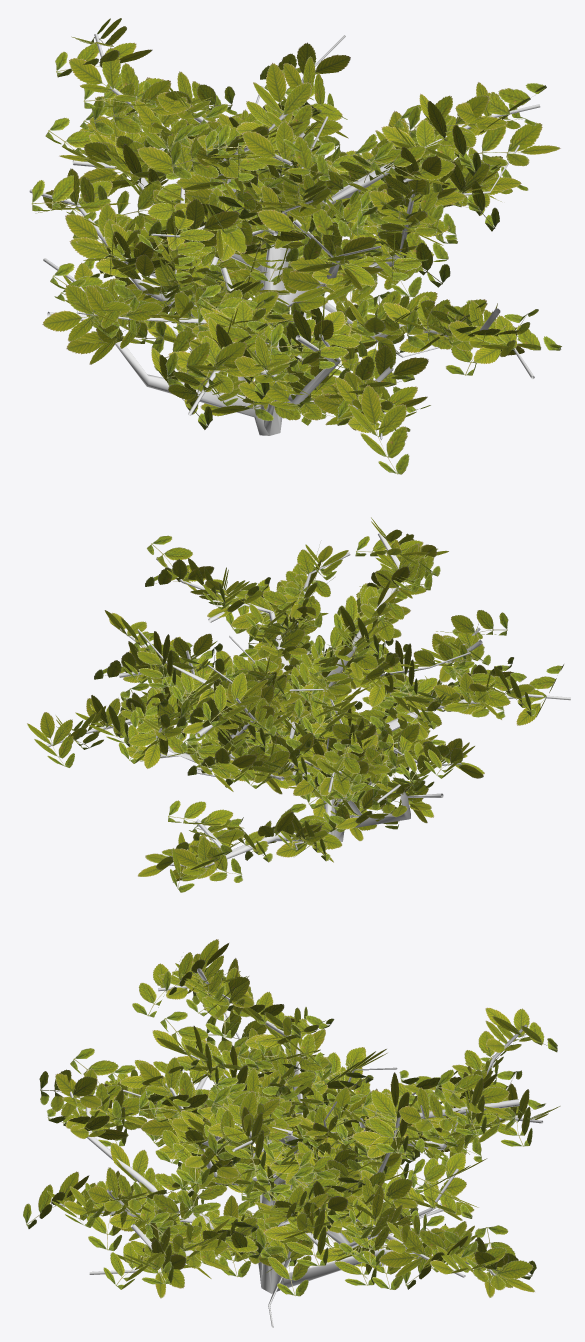
The model's file is Bush_low.fbx.
3 renders of one model, top to bottom at view 1: azimuth 30°, elevation 25°; view 2: azimuth 150°, elevation 25°; view 3: azimuth 270°, elevation 25°, orthographic. The views are drawn at different scales.
Visible parts, largest first — view 1: tree.003, tree.003|green_leaves_PNG3661|Dupli|109, tree.003|green_leaves_PNG3661|Dupli|301, tree.003|green_leaves_PNG3661|Dupli|4, tree.003|green_leaves_PNG3661|Dupli|307, tree.003|green_leaves_PNG3661|Dupli|18, tree.003|green_leaves_PNG3661|Dupli|177, tree.003|green_leaves_PNG3661|Dupli|179, tree.003|green_leaves_PNG3661|Dupli|217, tree.003|green_leaves_PNG3661|Dupli|274, tree.003|green_leaves_PNG3661|Dupli|358, tree.003|green_leaves_PNG3661|Dupli|82 (+85 smaller); view 2: tree.003, tree.003|green_leaves_PNG3661|Dupli|178, tree.003|green_leaves_PNG3661|Dupli|152, tree.003|green_leaves_PNG3661|Dupli|56, tree.003|green_leaves_PNG3661|Dupli|354, tree.003|green_leaves_PNG3661|Dupli|238, tree.003|green_leaves_PNG3661|Dupli|24, tree.003|green_leaves_PNG3661|Dupli|167, tree.003|green_leaves_PNG3661|Dupli|337, tree.003|green_leaves_PNG3661|Dupli|312, tree.003|green_leaves_PNG3661|Dupli|151, tree.003|green_leaves_PNG3661|Dupli|266 (+54 smaller); view 3: tree.003, tree.003|green_leaves_PNG3661|Dupli|236, tree.003|green_leaves_PNG3661|Dupli|70, tree.003|green_leaves_PNG3661|Dupli|157, tree.003|green_leaves_PNG3661|Dupli|374, tree.003|green_leaves_PNG3661|Dupli|240, tree.003|green_leaves_PNG3661|Dupli|121, tree.003|green_leaves_PNG3661|Dupli|397, tree.003|green_leaves_PNG3661|Dupli|167, tree.003|green_leaves_PNG3661|Dupli|103, tree.003|green_leaves_PNG3661|Dupli|319, tree.003|green_leaves_PNG3661|Dupli|272 (+70 smaller).
Part boxes in pixels (left/top/right/bottom): tree.003: left=29, top=33, right=540, bottom=440; tree.003|green_leaves_PNG3661|Dupli|109: left=348, top=384, right=409, bottom=474; tree.003|green_leaves_PNG3661|Dupli|301: left=253, top=62, right=314, bottom=151; tree.003|green_leaves_PNG3661|Dupli|4: left=42, top=284, right=139, bottom=341; tree.003|green_leaves_PNG3661|Dupli|307: left=242, top=120, right=330, bottom=181; tree.003|green_leaves_PNG3661|Dupli|18: left=165, top=341, right=265, bottom=393; tree.003|green_leaves_PNG3661|Dupli|177: left=92, top=80, right=191, bottom=134; tree.003|green_leaves_PNG3661|Dupli|179: left=69, top=47, right=156, bottom=107; tree.003|green_leaves_PNG3661|Dupli|217: left=466, top=122, right=560, bottom=166; tree.003|green_leaves_PNG3661|Dupli|274: left=408, top=95, right=507, bottom=147; tree.003|green_leaves_PNG3661|Dupli|358: left=257, top=195, right=351, bottom=236; tree.003|green_leaves_PNG3661|Dupli|82: left=406, top=299, right=505, bottom=351; tree.003: left=46, top=533, right=570, bottom=867; tree.003|green_leaves_PNG3661|Dupli|178: left=202, top=672, right=268, bottom=726; tree.003|green_leaves_PNG3661|Dupli|152: left=171, top=836, right=242, bottom=882; tree.003|green_leaves_PNG3661|Dupli|56: left=316, top=742, right=363, bottom=795; tree.003|green_leaves_PNG3661|Dupli|354: left=128, top=699, right=170, bottom=768; tree.003|green_leaves_PNG3661|Dupli|238: left=27, top=712, right=74, bottom=767; tree.003|green_leaves_PNG3661|Dupli|24: left=434, top=672, right=505, bottom=718; tree.003|green_leaves_PNG3661|Dupli|167: left=137, top=631, right=175, bottom=688; tree.003|green_leaves_PNG3661|Dupli|337: left=180, top=733, right=240, bottom=791; tree.003|green_leaves_PNG3661|Dupli|312: left=360, top=588, right=407, bottom=641; tree.003|green_leaves_PNG3661|Dupli|151: left=168, top=800, right=244, bottom=828; tree.003|green_leaves_PNG3661|Dupli|266: left=248, top=622, right=307, bottom=661; tree.003: left=51, top=968, right=542, bottom=1327; tree.003|green_leaves_PNG3661|Dupli|236: left=379, top=1228, right=460, bottom=1277; tree.003|green_leaves_PNG3661|Dupli|70: left=369, top=1072, right=409, bottom=1153; tree.003|green_leaves_PNG3661|Dupli|157: left=458, top=1242, right=534, bottom=1292; tree.003|green_leaves_PNG3661|Dupli|374: left=138, top=1057, right=205, bottom=1114; tree.003|green_leaves_PNG3661|Dupli|240: left=347, top=1185, right=395, bottom=1265; tree.003|green_leaves_PNG3661|Dupli|121: left=39, top=1069, right=102, bottom=1118; tree.003|green_leaves_PNG3661|Dupli|397: left=434, top=1069, right=511, bottom=1116; tree.003|green_leaves_PNG3661|Dupli|167: left=398, top=1087, right=466, bottom=1131; tree.003|green_leaves_PNG3661|Dupli|103: left=88, top=1167, right=155, bottom=1211; tree.003|green_leaves_PNG3661|Dupli|319: left=270, top=1027, right=330, bottom=1100; tree.003|green_leaves_PNG3661|Dupli|272: left=223, top=1107, right=265, bottom=1169.
Size of the model in its own units: 165 by 125 by 181.
1 material, 1 textured.
